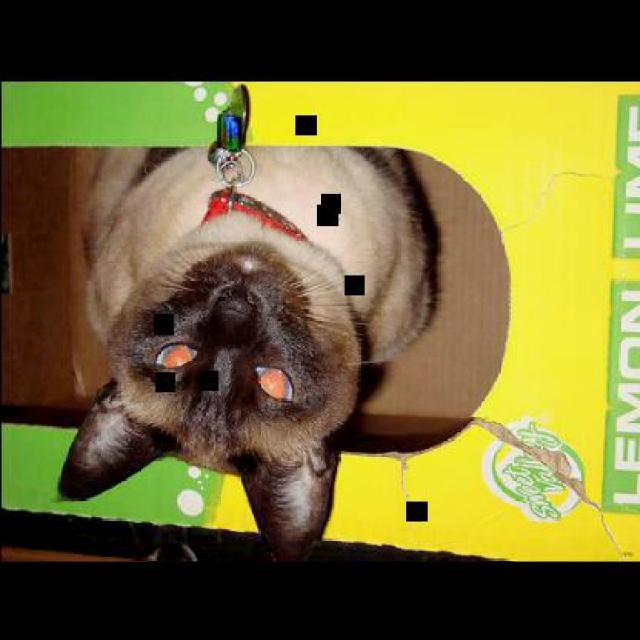unauthorized: (56, 142, 442, 562)
